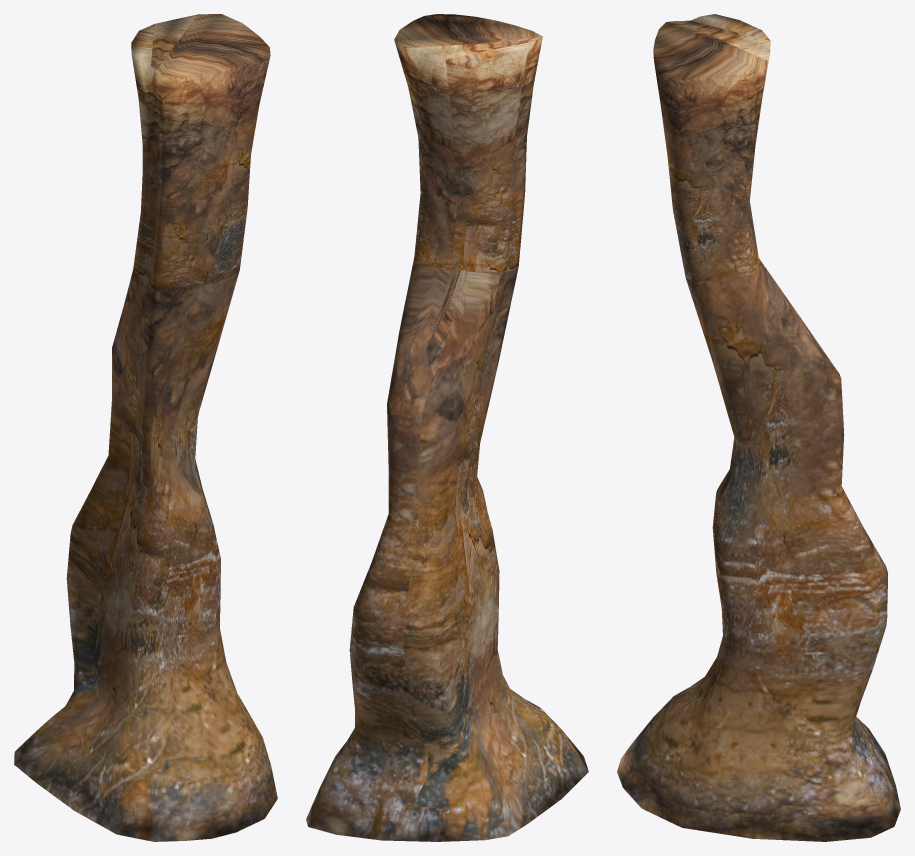
Rendered from rockformation1.obj.
The picture shows the model from 3 angles, left to right: view 1: azimuth 30°, elevation 25°; view 2: azimuth 150°, elevation 25°; view 3: azimuth 270°, elevation 25°; orthographic projection. The views are drawn at different scales.
Parts seen in each view (by area): view 1: rockformation1; view 2: rockformation1; view 3: rockformation1.
Part boxes in pixels (x1,y1,x2,y2): rockformation1: (14,14,277,841); rockformation1: (306,14,588,841); rockformation1: (617,14,900,841).
Bounding box in the file's own units: 102 × 382 × 130.
1 material, 1 textured.
